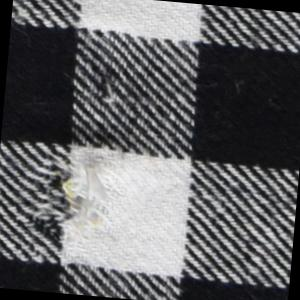Damage: (9, 150, 112, 263), (85, 63, 135, 116)
